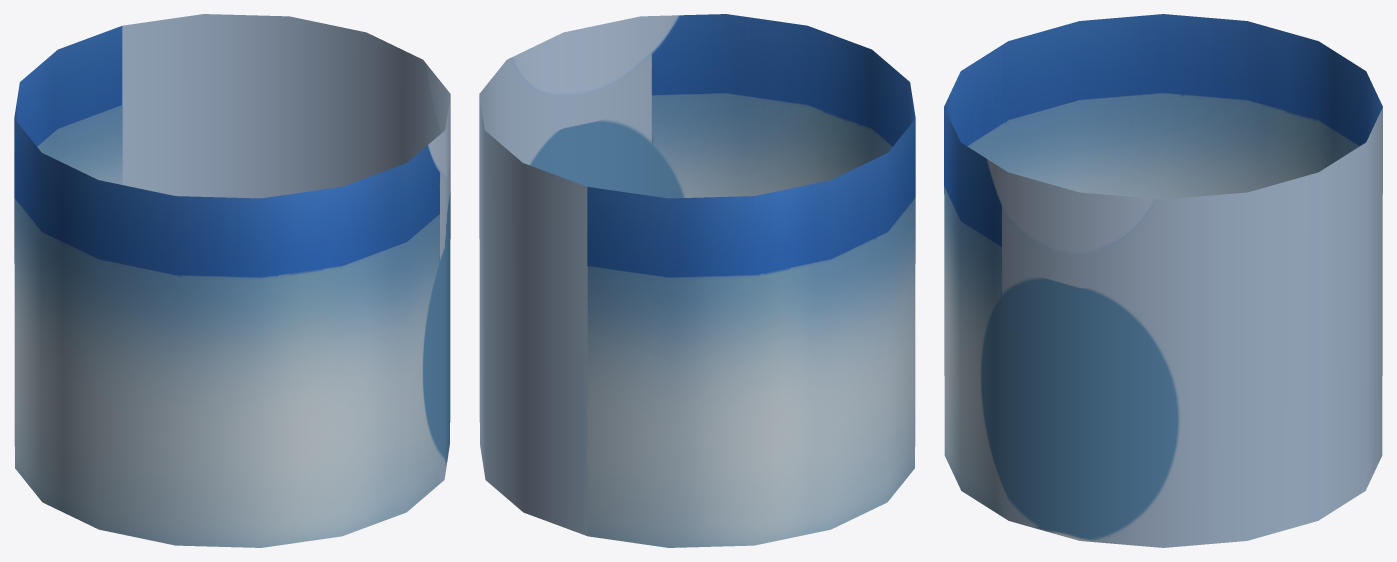
Rendered from Water_Bottle_Label_02.fbx.
3 renders of one model, left to right at view 1: azimuth 30°, elevation 25°; view 2: azimuth 150°, elevation 25°; view 3: azimuth 270°, elevation 25°, orthographic.
Parts seen in each view (by area): view 1: Water_Bottle_Label_02; view 2: Water_Bottle_Label_02; view 3: Water_Bottle_Label_02.
Part boxes in pixels (x1,y1,x2,y2): Water_Bottle_Label_02: (14,14,450,547); Water_Bottle_Label_02: (479,14,915,547); Water_Bottle_Label_02: (944,14,1382,547).
Size of the model in its own units: 36 by 31.56 by 36.
